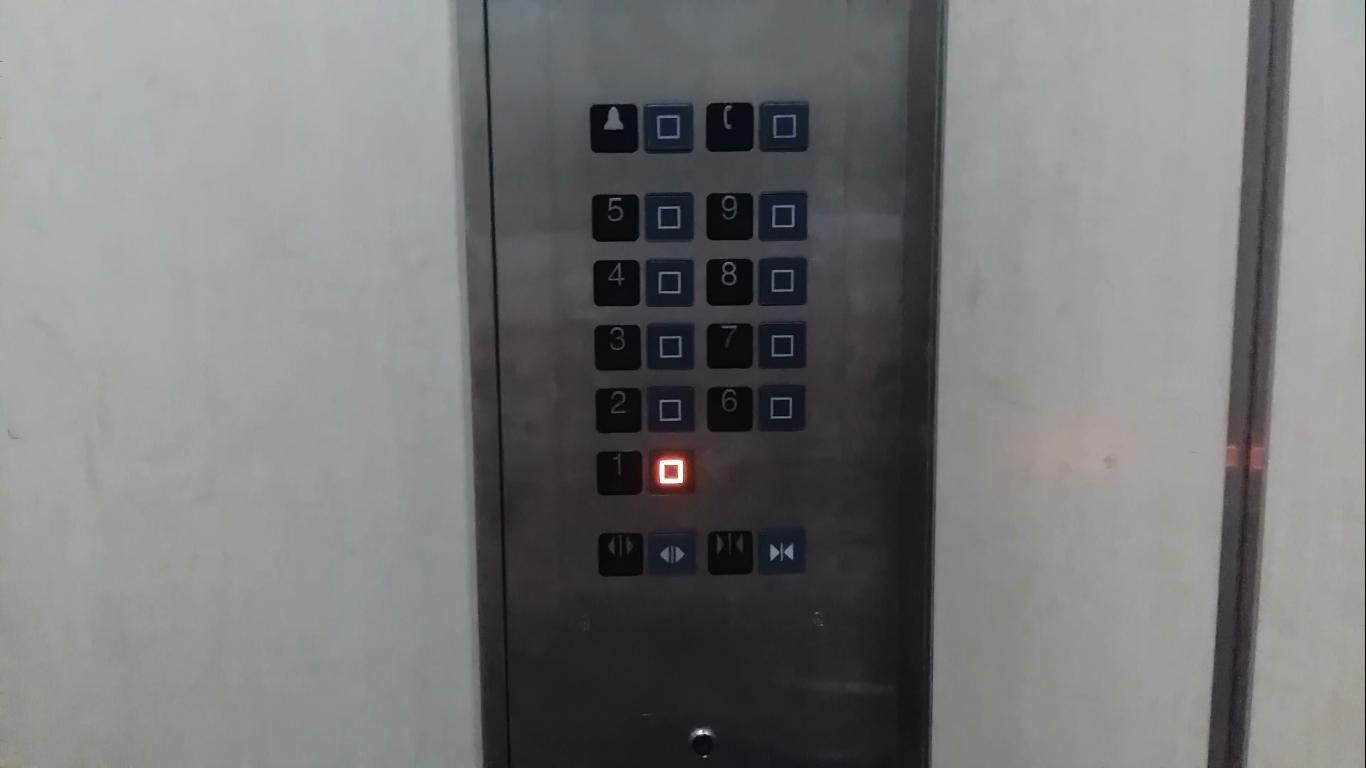1: (593, 448, 645, 498)
2: (593, 386, 645, 435)
3: (592, 322, 645, 372)
4: (590, 257, 643, 308)
5: (590, 192, 642, 243)
6: (705, 384, 755, 433)
7: (704, 322, 755, 372)
8: (703, 256, 757, 307)
9: (703, 191, 756, 242)
alarm: (588, 102, 640, 155)
call: (703, 100, 757, 153)
close: (756, 529, 809, 578), (704, 529, 756, 578)
open: (595, 530, 647, 579), (647, 530, 698, 579)
unknown: (758, 100, 811, 153), (643, 257, 697, 309), (642, 102, 694, 155), (642, 192, 696, 243), (756, 191, 810, 242), (757, 256, 810, 307), (645, 322, 698, 372), (755, 322, 808, 372), (645, 448, 698, 498), (755, 384, 807, 433), (645, 386, 696, 435)
